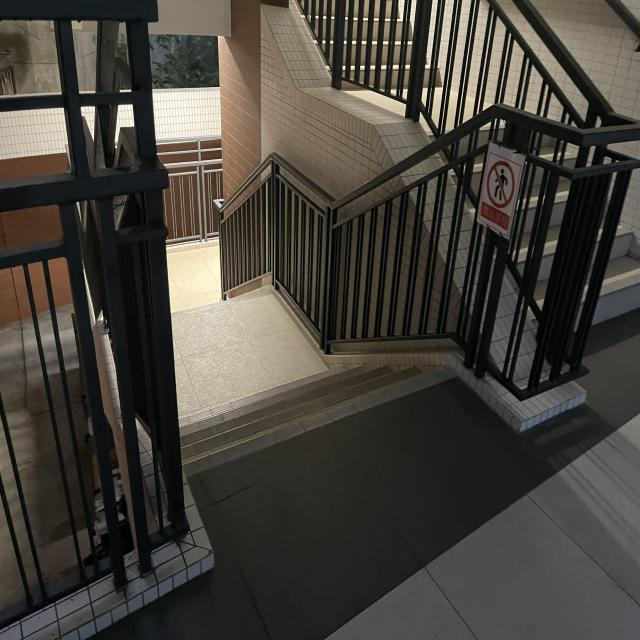Stairs: (129, 253, 451, 492)
